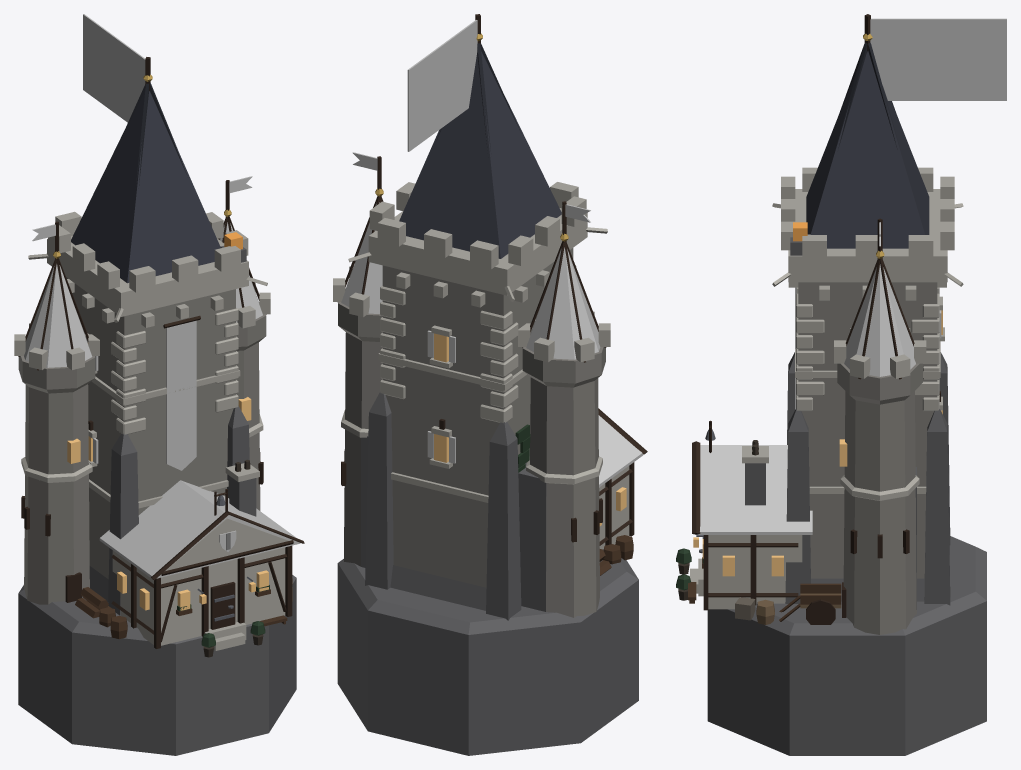
File: seat.glb
3 renders of one model, left to right at view 1: azimuth 30°, elevation 25°; view 2: azimuth 150°, elevation 25°; view 3: azimuth 270°, elevation 25°, orthographic. The views are drawn at different scales.
Parts seen in each view (by area): view 1: tower, round towers, keep close!fine, roof@blackwood, hall, hall roof, pennant, banner, cones, roof close@blackwood!fine, hall lights, stores; view 2: tower, round towers, roof@blackwood, keep close!fine, pennant, cones, hall roof, hall, tower windows, keep shutters!fine, roof close@blackwood!fine, stores; view 3: tower, round towers, roof@blackwood, keep close!fine, pennant, hall roof, hall, cones, roof close@blackwood!fine, stores, keep lights!fine.
Part boxes in pixels (box(x1,y1,x2,y2)): tower: box(18, 211, 296, 755); round towers: box(14, 282, 270, 604); keep close!fine: box(18, 217, 304, 657); roof@blackwood: box(71, 91, 220, 283); hall: box(112, 476, 292, 650); hall roof: box(99, 480, 300, 578); pennant: box(83, 14, 145, 122); banner: box(166, 320, 196, 470); cones: box(24, 222, 262, 367); roof close@blackwood!fine: box(109, 74, 186, 188); hall lights: box(177, 570, 268, 610); stores: box(99, 578, 292, 639); tower: box(337, 182, 638, 755); round towers: box(333, 266, 610, 617); roof@blackwood: box(399, 51, 561, 258); keep close!fine: box(337, 196, 647, 610); pennant: box(407, 20, 477, 151); cones: box(341, 202, 600, 359); hall roof: box(598, 415, 643, 487); hall: box(599, 462, 634, 549); tower windows: box(434, 333, 448, 462); keep shutters!fine: box(427, 328, 532, 463); roof close@blackwood!fine: box(436, 33, 520, 156); stores: box(603, 535, 633, 564); tower: box(707, 167, 986, 755); round towers: box(834, 328, 926, 634); roof@blackwood: box(806, 51, 929, 248); keep close!fine: box(678, 203, 963, 624); pennant: box(870, 18, 1006, 100); hall roof: box(698, 445, 812, 534); hall: box(690, 463, 802, 610); cones: box(844, 264, 915, 376); roof close@blackwood!fine: box(836, 33, 899, 149); stores: box(735, 597, 774, 624); keep lights!fine: box(722, 555, 783, 576).
Bounding box in the file's own units: 7.36 × 18.4 × 8.09.
